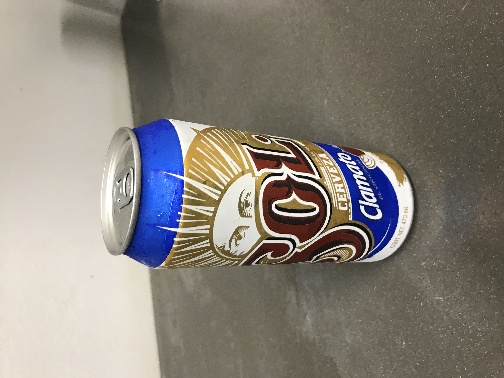SCL: (118, 90, 275, 189)
